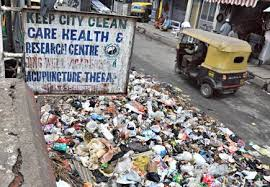garbage: (43, 97, 199, 187), (77, 124, 267, 187), (127, 73, 175, 187)
